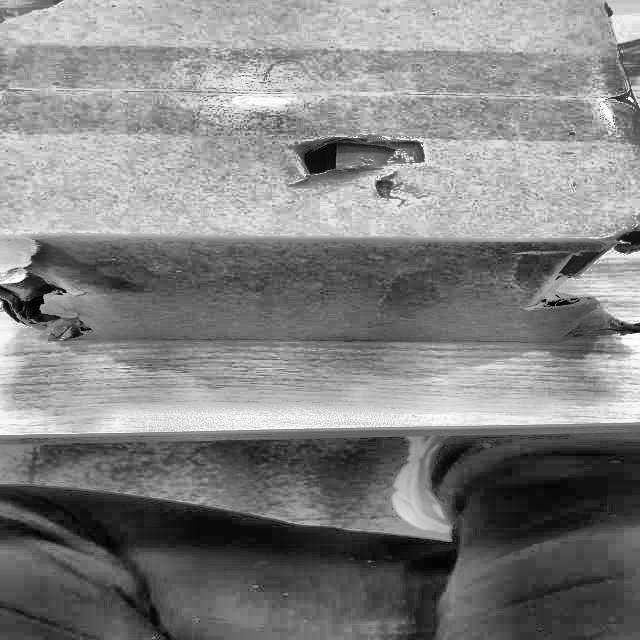box: (0, 0, 640, 364)
hole: (289, 135, 399, 179), (4, 281, 92, 330)
